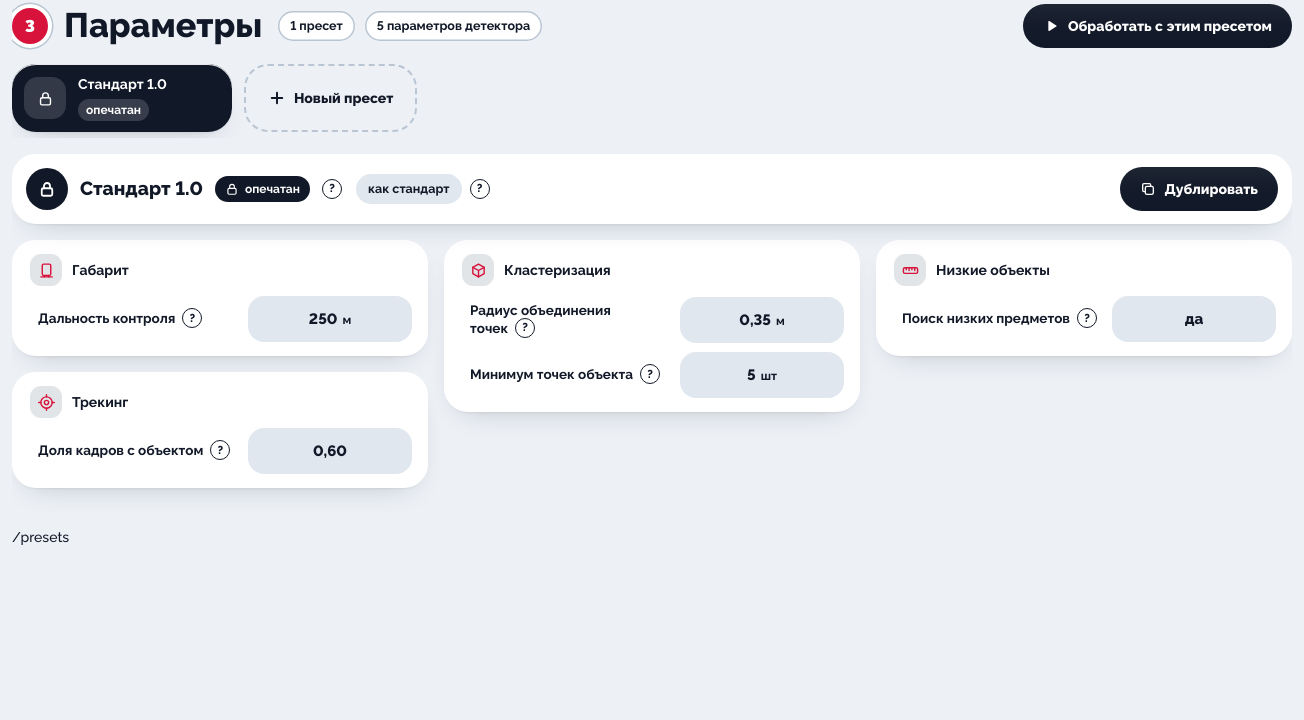
Test case: Presets page › shows the backend’s message at the name field on a conflict
The image size is (1304, 720).
Click the button "Новый пресет".
click(331, 98)  # box top-left (244, 64), bottom-right (417, 132)
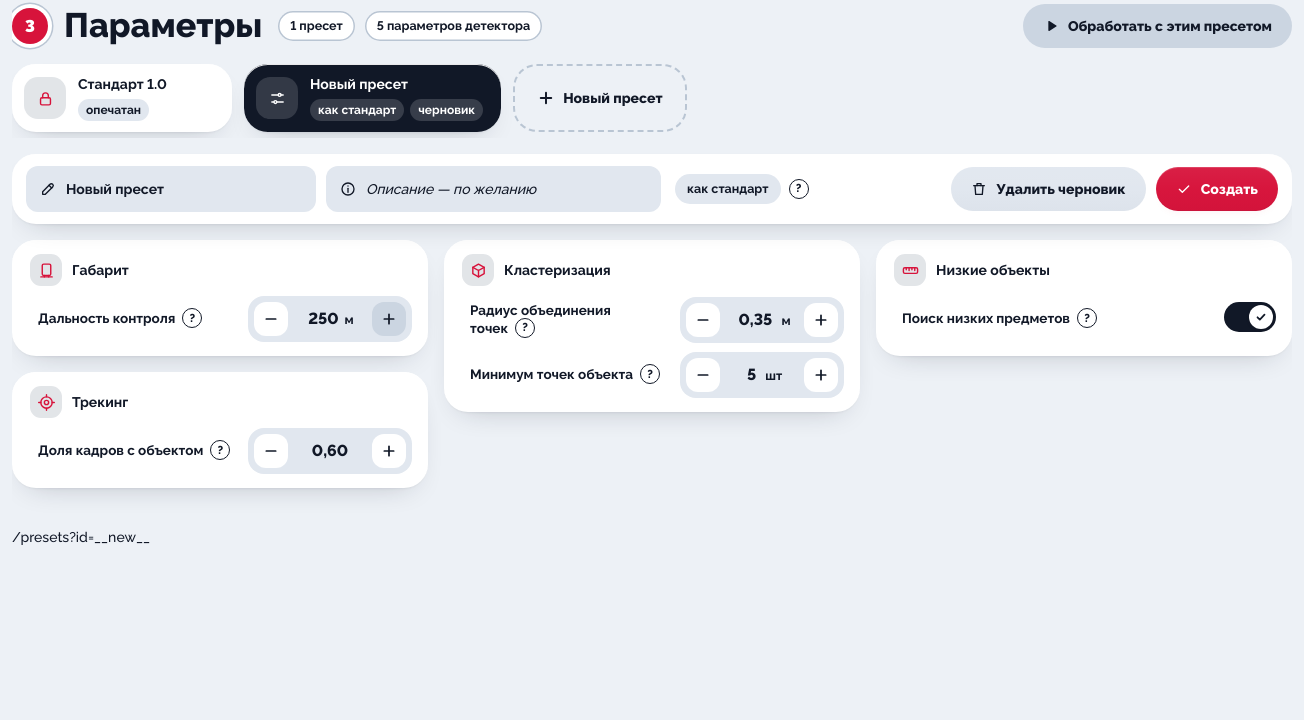
Replace the text in the field named "Название пресета" with "Стандарт 1.0" at [184, 189], box top-left (66, 166), bottom-right (302, 212)
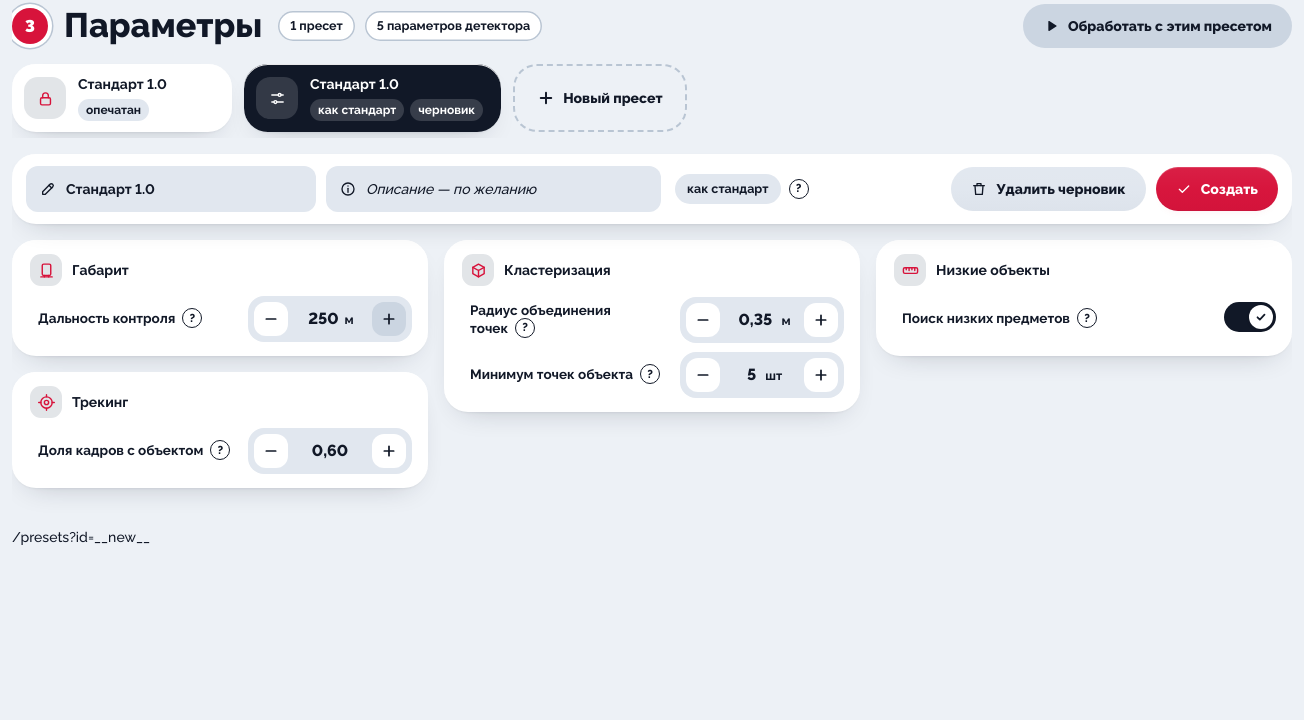
Click the button "Создать".
click(1217, 189)  # box top-left (1156, 167), bottom-right (1278, 211)
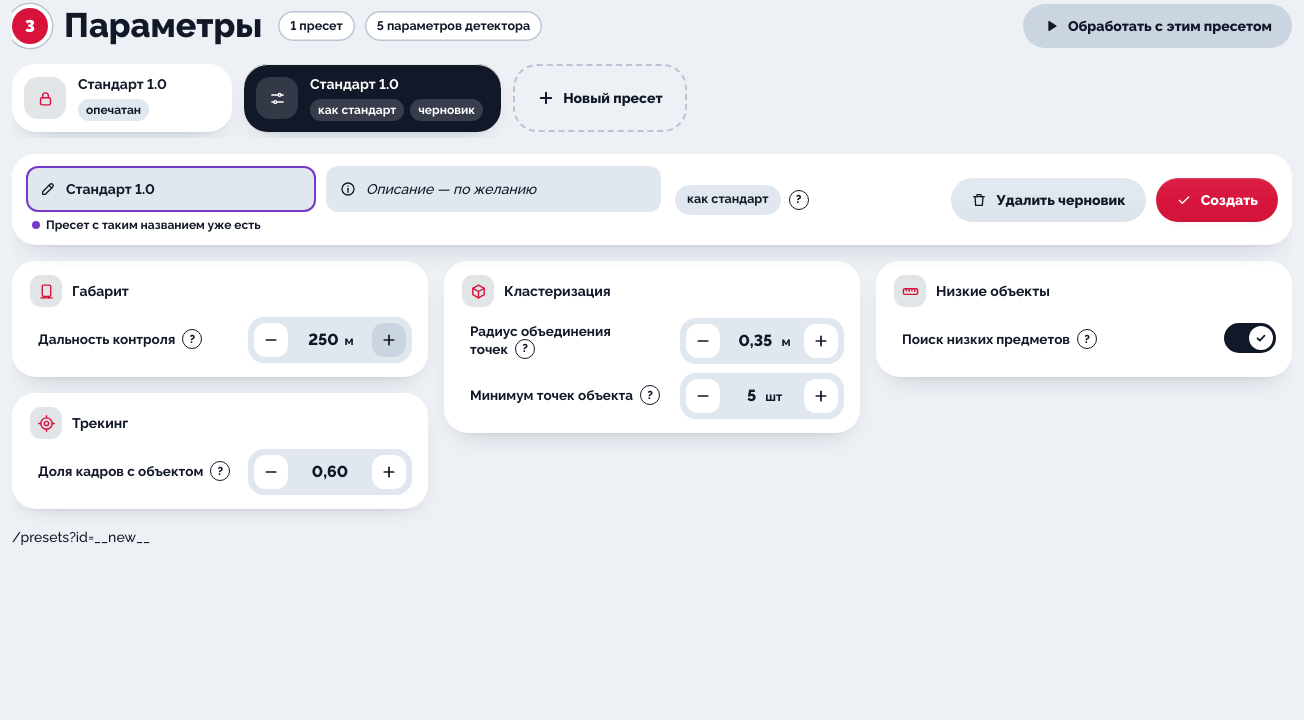
Check: the text "Пресет с таким названием уже есть" is shown, box top-left (46, 218), bottom-right (261, 232)
